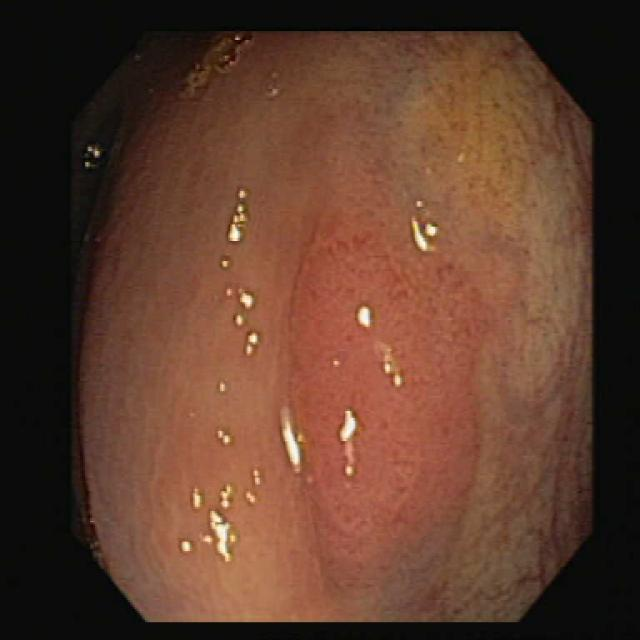tumor: (288, 211, 490, 618)
